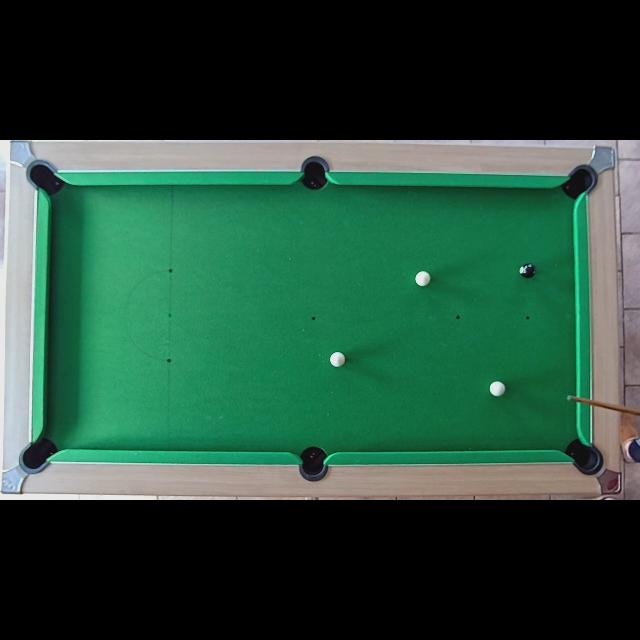Ball: (520, 264, 536, 278), (330, 352, 346, 366), (416, 272, 430, 286), (490, 382, 504, 396)
